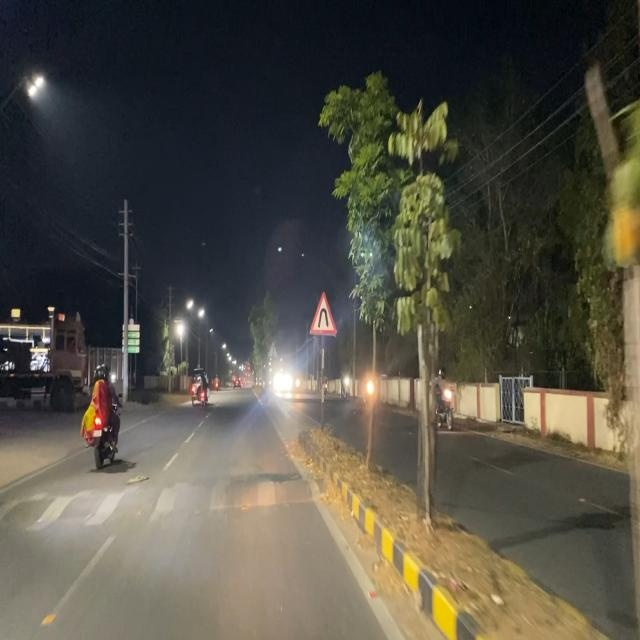bien_nguy_hiem: (310, 290, 337, 337)
